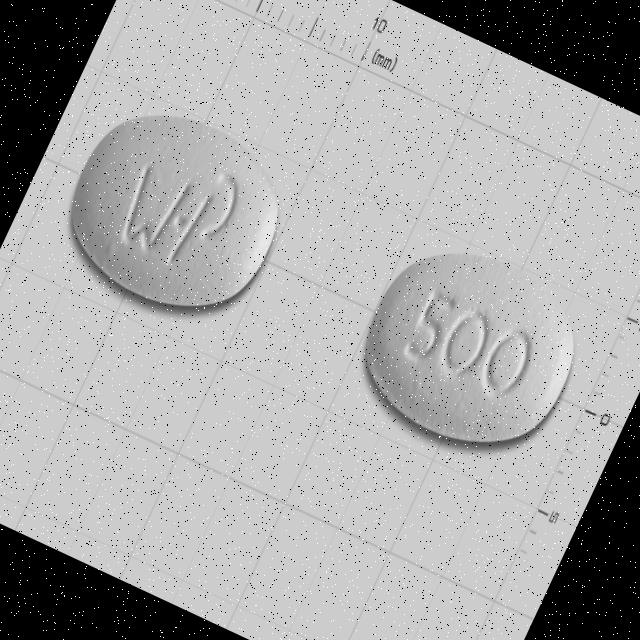Highloxin: (45, 84, 308, 338), (340, 220, 602, 473)
